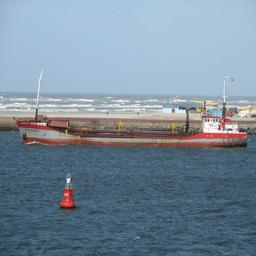Ship: (14, 108, 250, 152)
